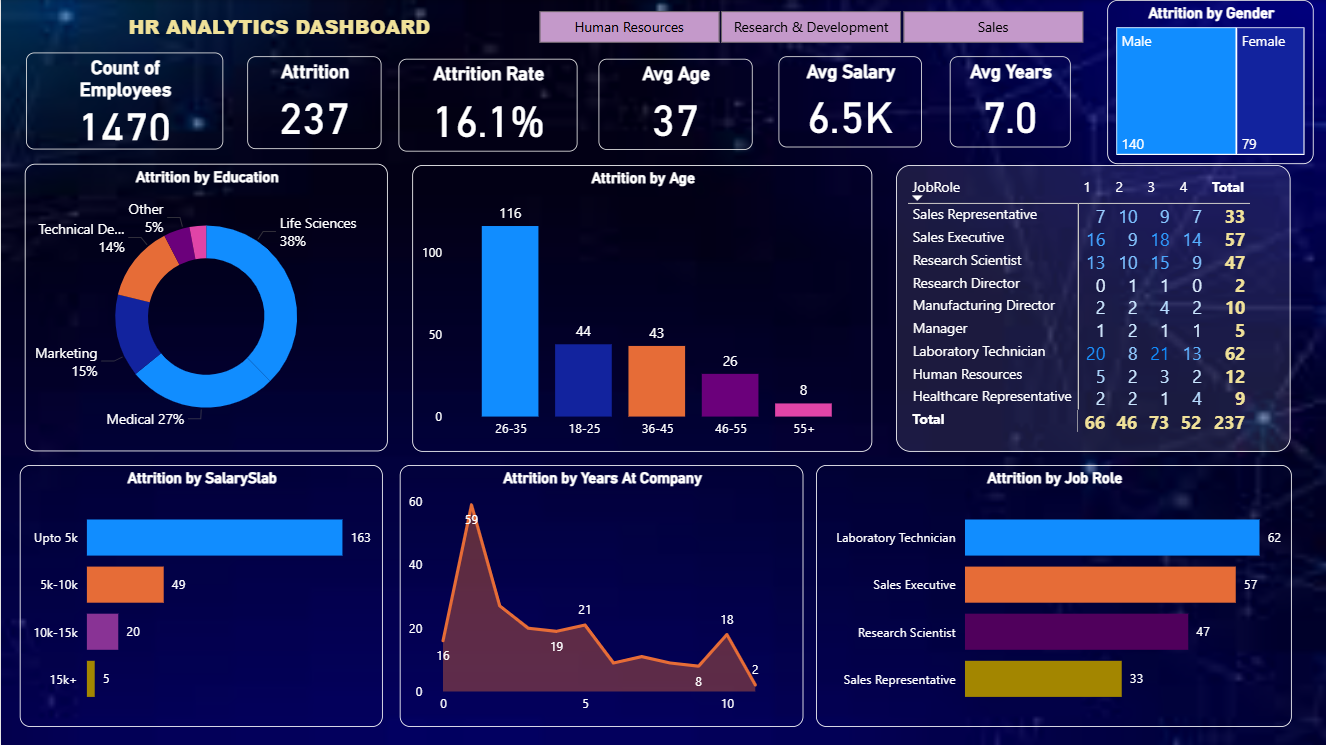

The dashboard page shown, as its layout file describes it:
{"tool":"powerbi","page":{"name":"Page 1","canvas":[1280,720],"ordinal":0},"visuals":[{"type":"card","title":"Count of Employees","fields":{"Values":["CountNonNull(HR_Analytics.EmpID)"]},"box":[24.1,50.7,190.6,107.4],"z":0},{"type":"card","title":"Attrition","fields":{"Values":["Sum(HR_Analytics.AttritionCount)"]},"box":[238.1,54.8,129.8,89.5],"z":1000},{"type":"card","title":"Attrition Rate","fields":{"Values":["HR_Analytics.AttritionRate"]},"box":[383.8,56.3,173.1,89.5],"z":2000},{"type":"card","title":"Avg Age","fields":{"Values":["Avg(HR_Analytics.Age)"]},"box":[577.1,56.3,148.6,88],"z":3000},{"type":"card","title":"Avg Salary","fields":{"Values":["Avg(HR_Analytics.MonthlyIncome)"]},"box":[750.2,54.8,138.5,88],"z":4000},{"type":"card","title":"Avg Years","fields":{"Values":["Avg(HR_Analytics.YearsAtCompany)"]},"box":[916.2,54.8,116.9,88],"z":5000},{"type":"donutChart","title":"Attrition by Education","fields":{"Category":["HR_Analytics.EducationField"],"Y":["Sum(HR_Analytics.AttritionCount)"]},"box":[23.1,158.4,350.6,277.6],"z":6000},{"type":"columnChart","title":"Attrition by Age","fields":{"Category":["HR_Analytics.AgeGroup"],"Series":["HR_Analytics.AgeGroup"],"Y":["Sum(HR_Analytics.AttritionCount)"]},"box":[396.8,158.7,444.4,277],"z":7000},{"type":"pivotTable","fields":{"Columns":["HR_Analytics.JobSatisfaction"],"Rows":["HR_Analytics.JobRole"],"Values":["Sum(HR_Analytics.AttritionCount)"]},"box":[864.2,158.7,380.9,277],"z":8000},{"type":"barChart","title":"Attrition by SalarySlab","fields":{"Category":["HR_Analytics.SalarySlab"],"Y":["Sum(HR_Analytics.AttritionCount)"]},"box":[17.8,448.5,350.6,252.7],"z":9000},{"type":"clusteredBarChart","title":"Attrition by Job Role","fields":{"Category":["HR_Analytics.JobRole"],"Y":["Sum(HR_Analytics.AttritionCount)"]},"box":[786.7,448.5,459.2,252.7],"z":10000},{"type":"areaChart","title":"Attrition by Years At Company","fields":{"Category":["HR_Analytics.YearsAtCompany"],"Y":["Sum(HR_Analytics.AttritionCount)"]},"box":[384.4,448.5,389.8,252.7],"z":11000},{"type":"treemap","title":"Attrition by Gender","fields":{"Group":["HR_Analytics.Gender"],"Values":["Sum(HR_Analytics.AttritionCount)"]},"box":[1067.9,0,199.3,158.4],"z":12000},{"type":"slicer","fields":{"Values":["HR_Analytics.Department"]},"box":[493,3.6,574.9,44.5],"z":13000},{"type":"textbox","box":[24.5,7.2,489.1,37.5],"z":13001}]}

Visuals, with their boxes in screenshot pixels (x1, y1, x2, y2), scaled from the page's 1280x720 canvas onto the 1326x745 screenshot:
"Count of Employees" card: left=25, top=52, right=222, bottom=164
"Attrition" card: left=247, top=57, right=381, bottom=149
"Attrition Rate" card: left=398, top=58, right=577, bottom=151
"Avg Age" card: left=598, top=58, right=752, bottom=149
"Avg Salary" card: left=777, top=57, right=921, bottom=148
"Avg Years" card: left=949, top=57, right=1070, bottom=148
"Attrition by Education" donutChart: left=24, top=164, right=387, bottom=451
"Attrition by Age" columnChart: left=411, top=164, right=871, bottom=451
pivotTable - HR_Analytics.JobSatisfaction x HR_Analytics.JobRole: left=895, top=164, right=1290, bottom=451
"Attrition by SalarySlab" barChart: left=18, top=464, right=382, bottom=726
"Attrition by Job Role" clusteredBarChart: left=815, top=464, right=1291, bottom=726
"Attrition by Years At Company" areaChart: left=398, top=464, right=802, bottom=726
"Attrition by Gender" treemap: left=1106, top=0, right=1313, bottom=164
slicer - HR_Analytics.Department: left=511, top=4, right=1106, bottom=50
textbox: left=25, top=7, right=532, bottom=46
